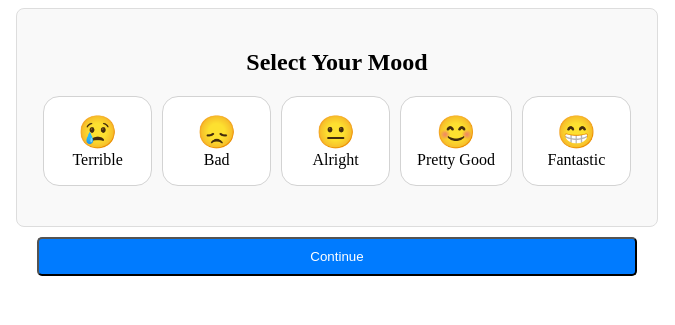
Test: WellbeingWidget Component › updates the selected emoji when a different emoji is clicked
Note: Click on the first emoji
Click the text "😢". click: (98,132)
box: [78, 114, 118, 150]
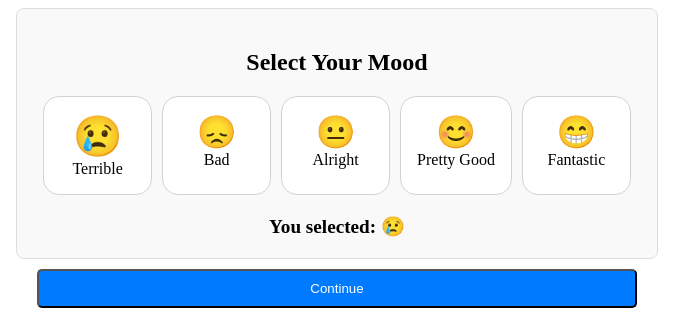
Expected: the text "You selected: 😢" is shown, [269, 216, 405, 237]
Note: Click on the third emoji
Click the text "😐". click: (336,132)
box: [316, 114, 356, 150]
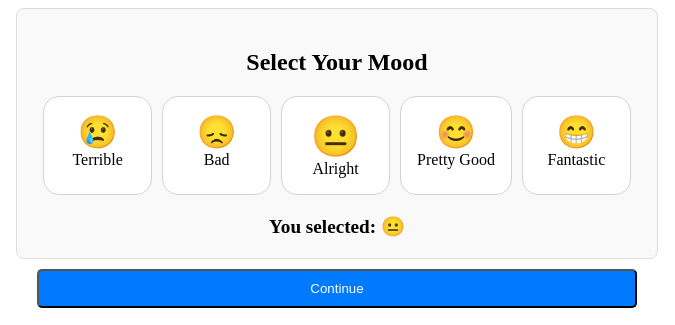
Expected: the text "You selected: 😐" is shown, [269, 216, 405, 237]
